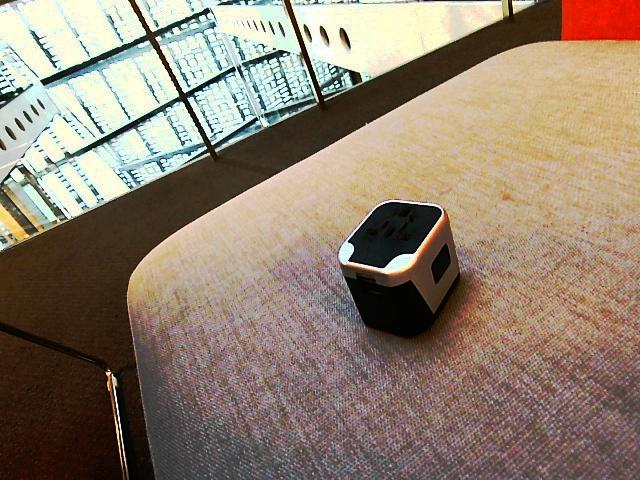adapter: (336, 198, 459, 338)
